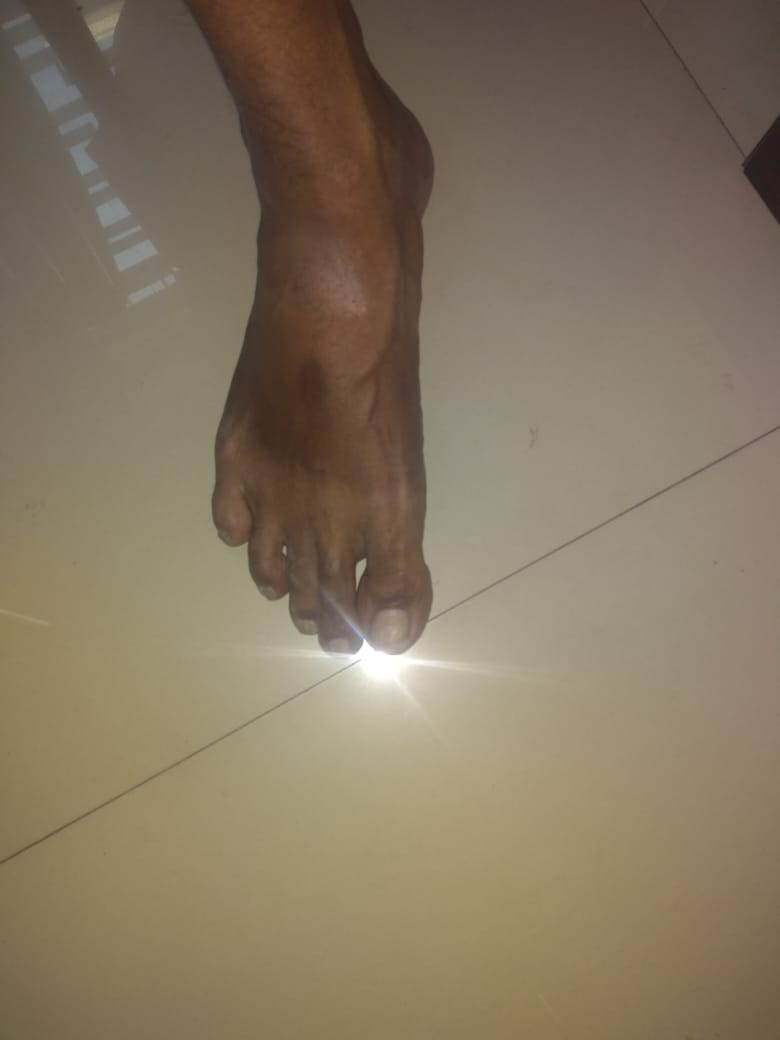feet: (113, 90, 451, 673)
